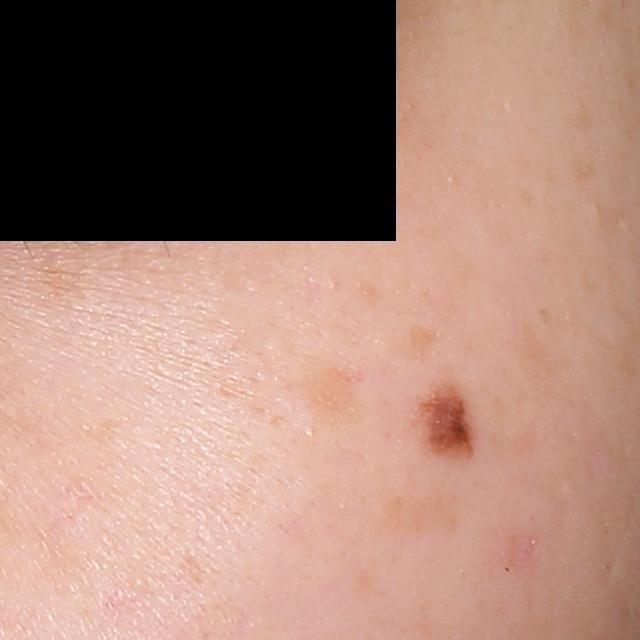melasma: (290, 362, 378, 424), (405, 318, 448, 359), (567, 156, 601, 190), (564, 104, 592, 130)
nevus: (424, 388, 472, 464)
